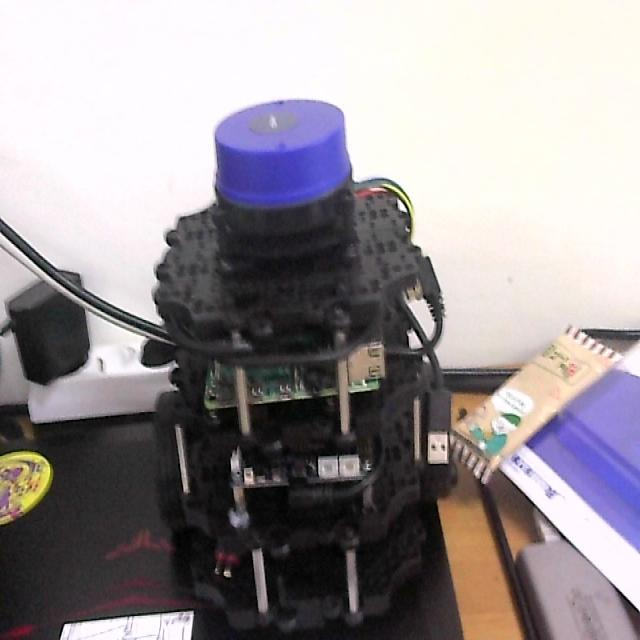turtle: (150, 94, 452, 640)
